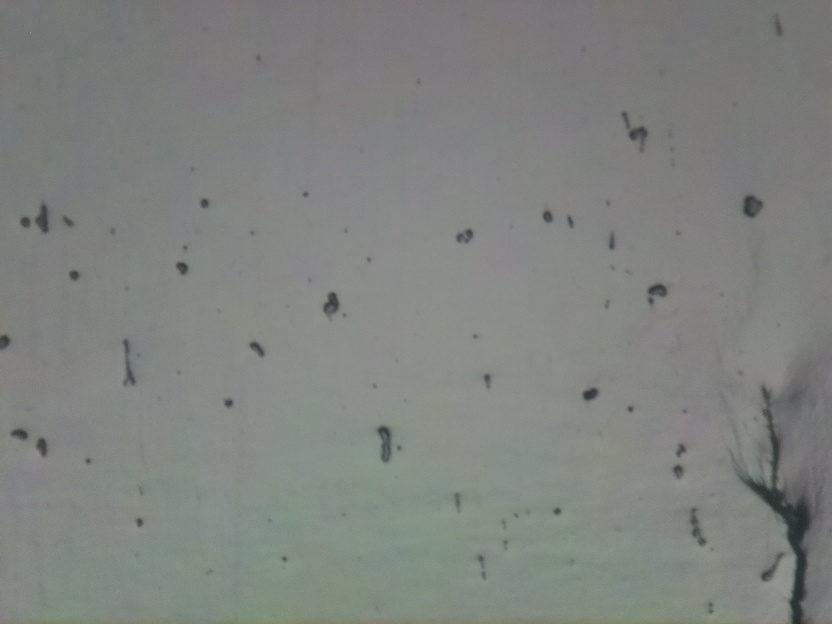crack: (728, 383, 819, 624)
